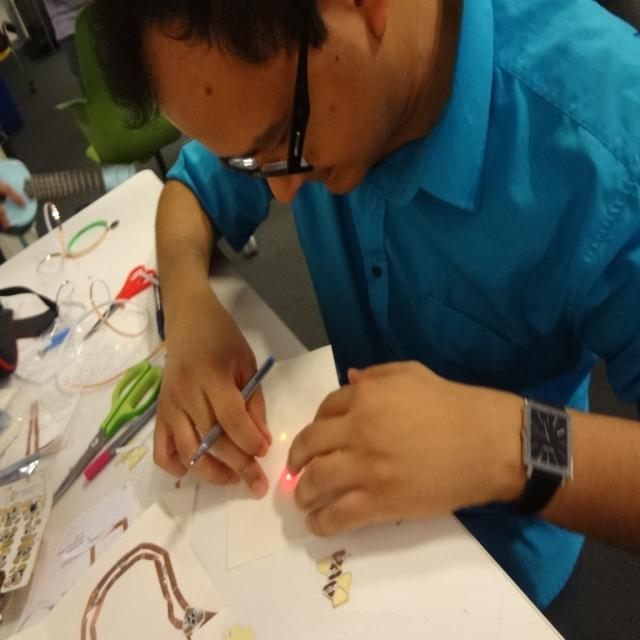scissors: (51, 359, 163, 506)
